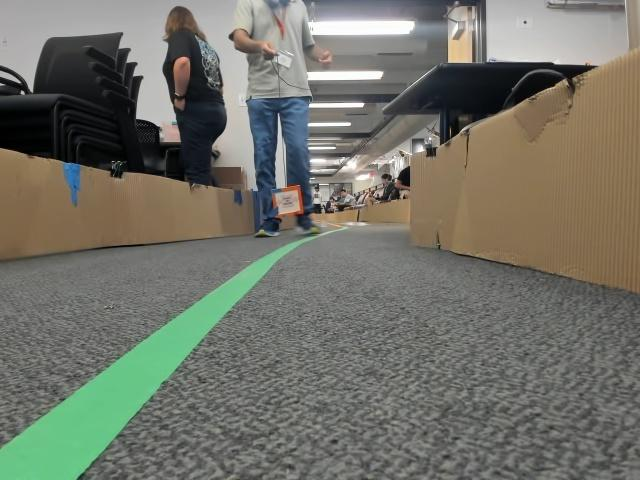Do Not Go Around: (276, 196, 297, 209)
